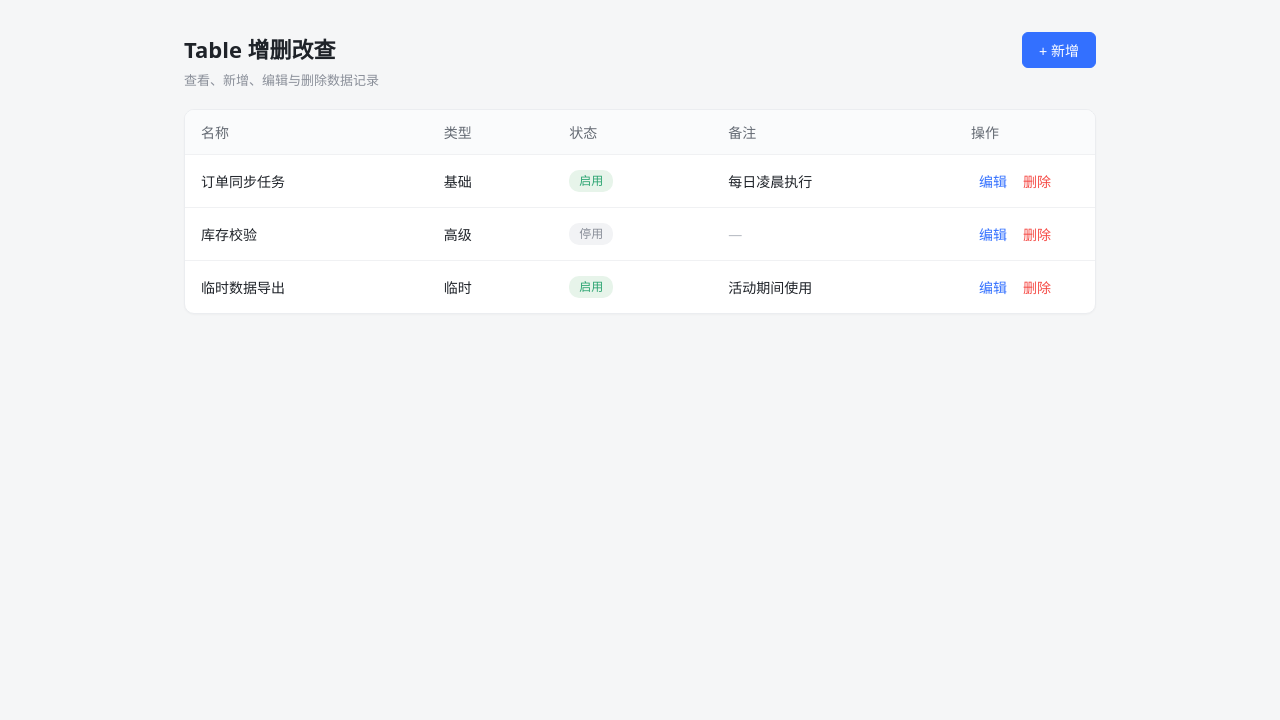
Scenario: App CRUD 流程 › 通过弹窗编辑已有记录
Expected: the text "订单同步任务" is shown, [185, 154, 428, 208]
Note: 找到第一行的“编辑”按钮
Click the button "编辑" in the row of "订单同步任务". click: (993, 181)
box: [971, 167, 1015, 195]
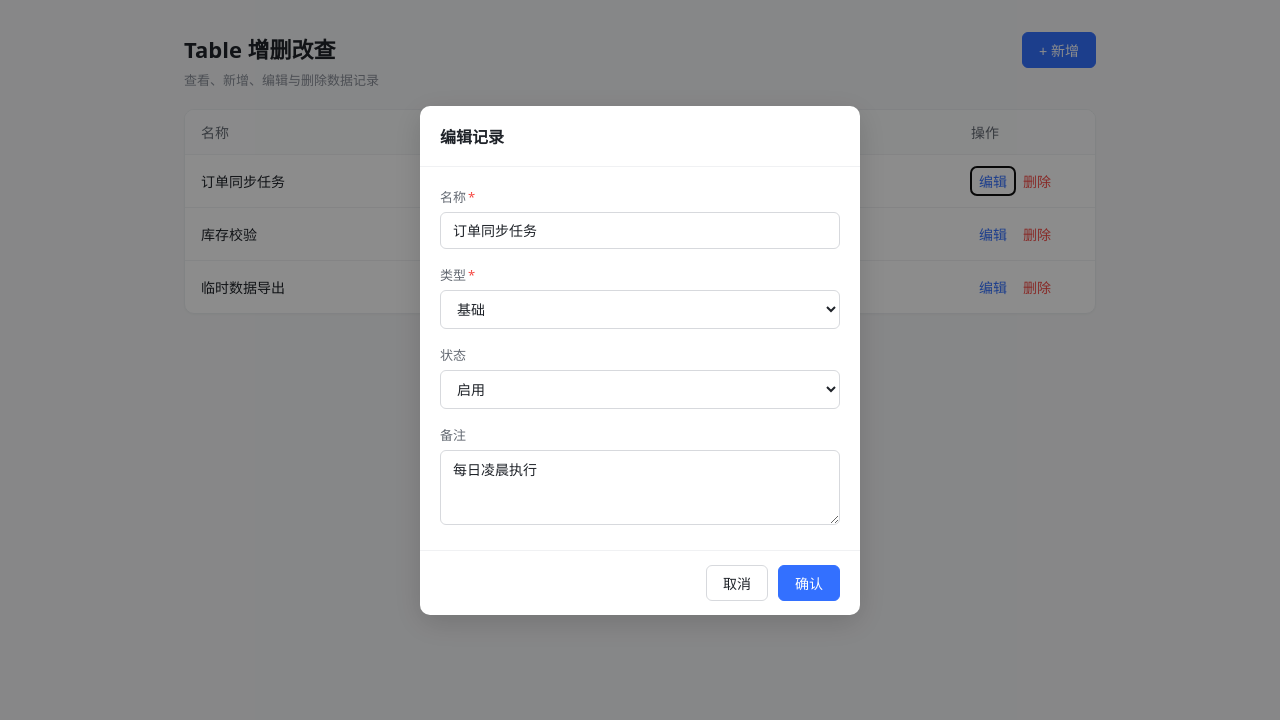
Now the text "编辑记录" is shown, box [420, 106, 860, 166]
Replace the text in the field showing "订单同步任务" with "订单同步任务V2". click: (640, 230)
box: [440, 212, 840, 248]
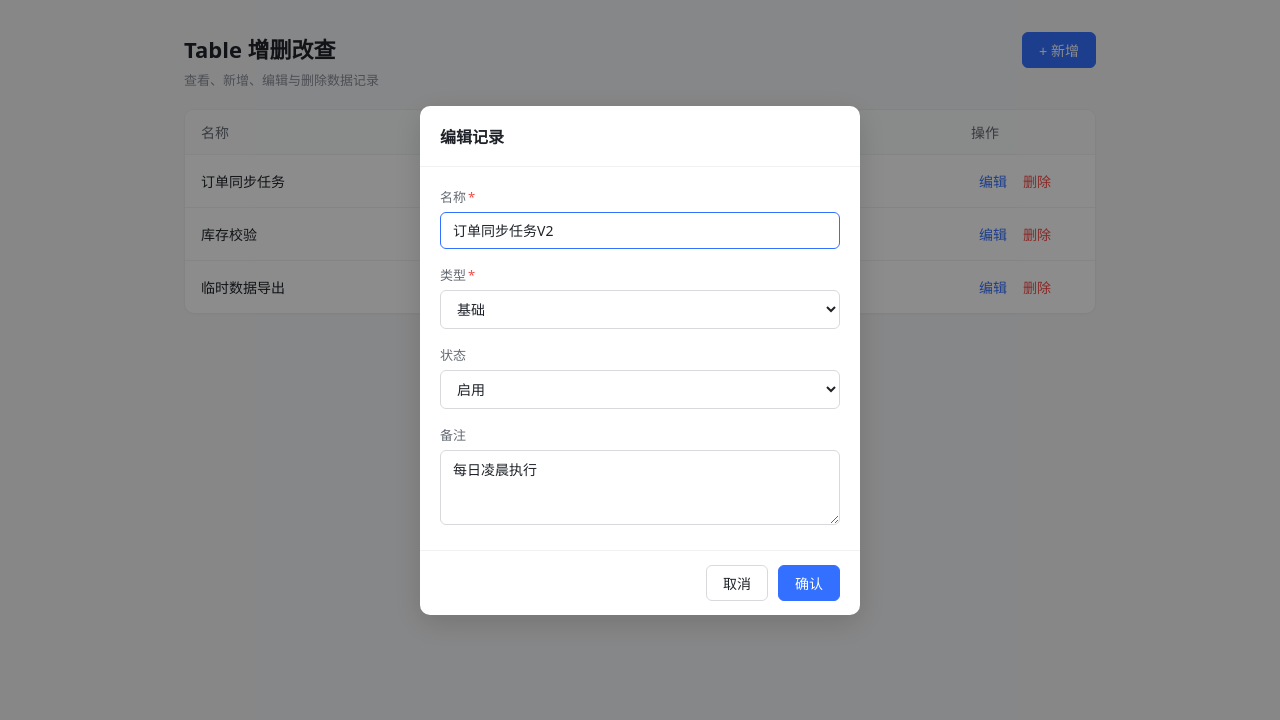
Click the button "确认". click: (809, 582)
box: [778, 564, 840, 600]
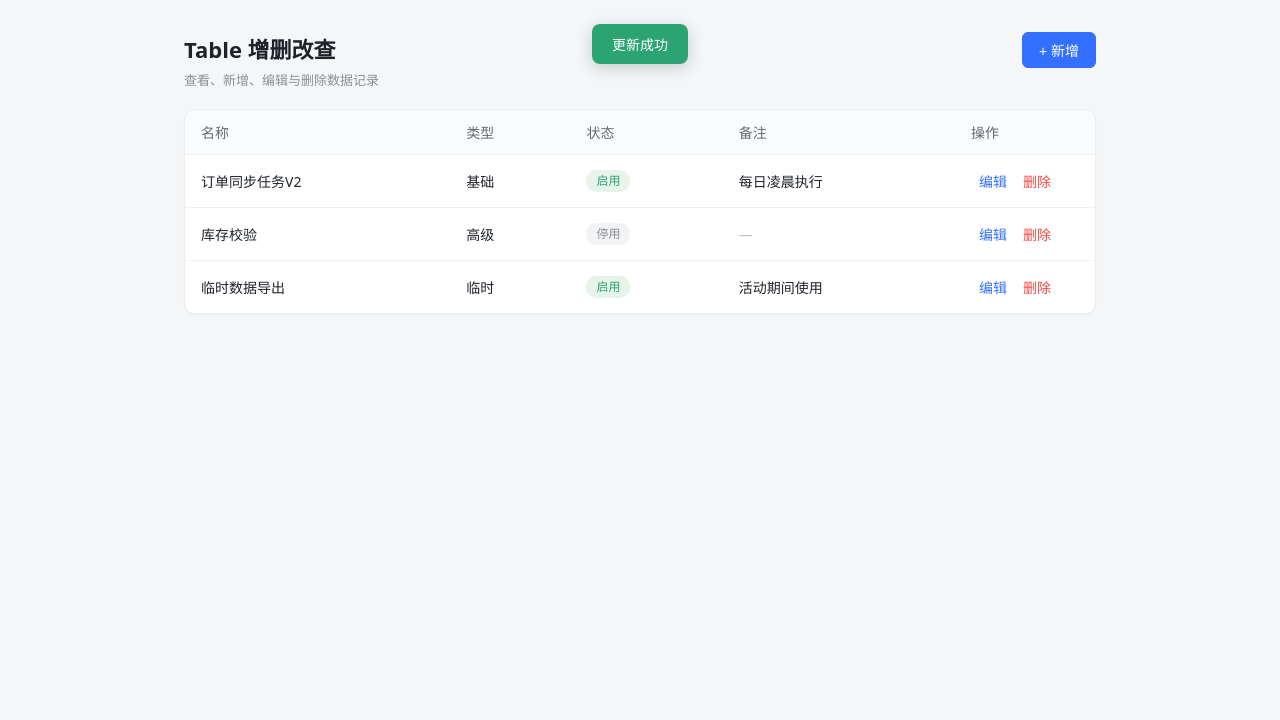
Now the text "更新成功" is shown, box [592, 24, 688, 64]
Now the text "订单同步任务V2" is shown, box [185, 154, 450, 208]
